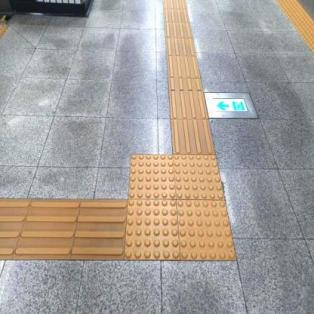Podoctatil: (107, 132, 254, 288), (162, 1, 219, 154), (0, 198, 125, 260)
